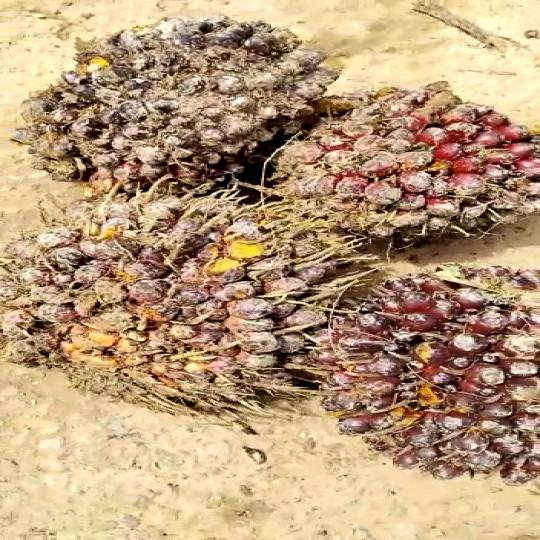kurang masak: (0, 193, 357, 428), (10, 9, 332, 181), (317, 259, 540, 485), (264, 89, 540, 241)
